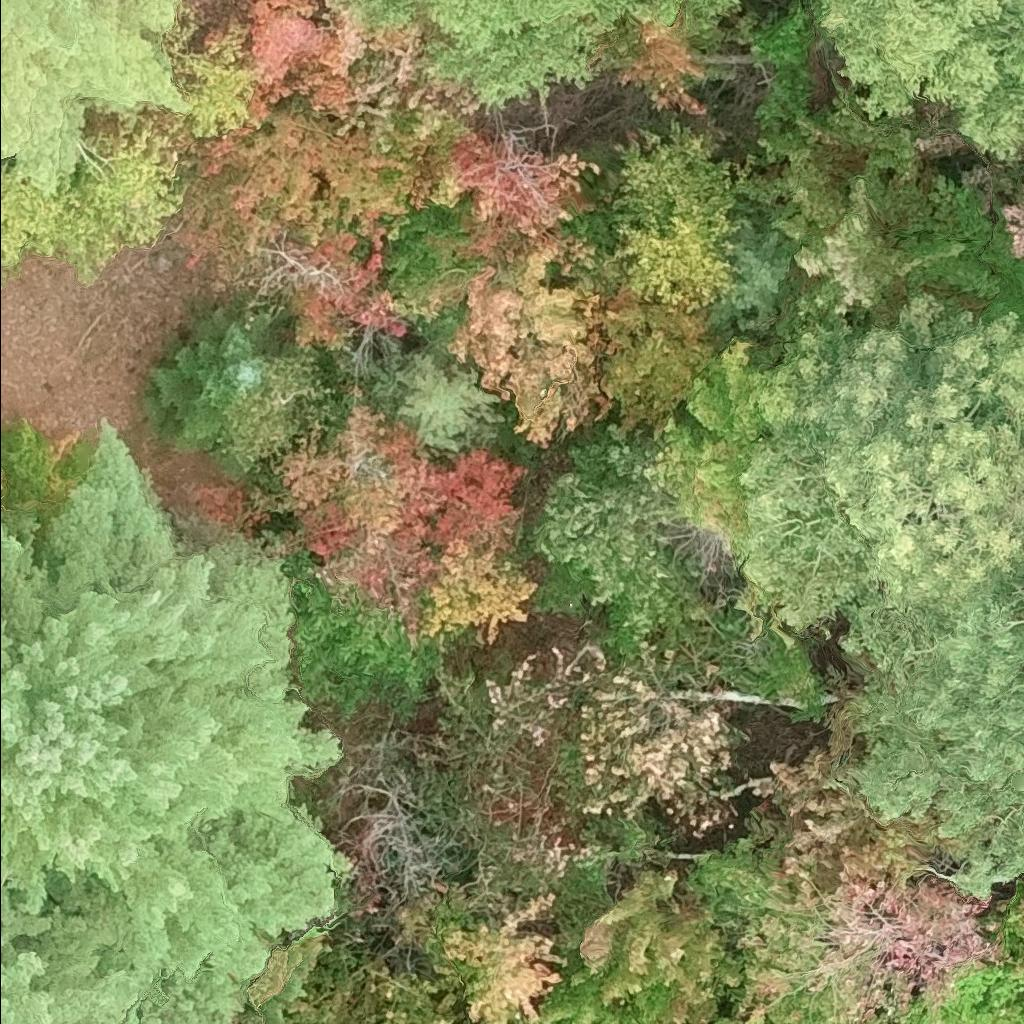crown: (0, 420, 348, 1001), (736, 279, 1023, 690), (727, 87, 1001, 340), (276, 401, 535, 647), (686, 837, 1003, 1023), (849, 583, 1023, 901), (402, 246, 631, 445), (535, 420, 707, 656), (0, 0, 191, 196), (187, 92, 434, 240), (0, 884, 253, 1023), (809, 0, 1023, 156), (412, 113, 602, 284), (645, 334, 781, 562), (0, 130, 186, 282), (408, 0, 655, 114), (750, 751, 939, 892), (609, 133, 747, 313), (580, 869, 741, 1006), (600, 278, 733, 439), (244, 0, 412, 126), (146, 308, 271, 474), (433, 892, 567, 1023), (605, 700, 739, 821), (936, 875, 1023, 1023), (615, 5, 708, 115), (535, 967, 715, 1023), (706, 219, 790, 329), (980, 222, 1023, 330), (643, 0, 737, 29), (351, 0, 415, 26), (1001, 196, 1023, 259), (714, 1009, 767, 1023), (906, 1003, 933, 1023), (509, 1020, 528, 1023)
